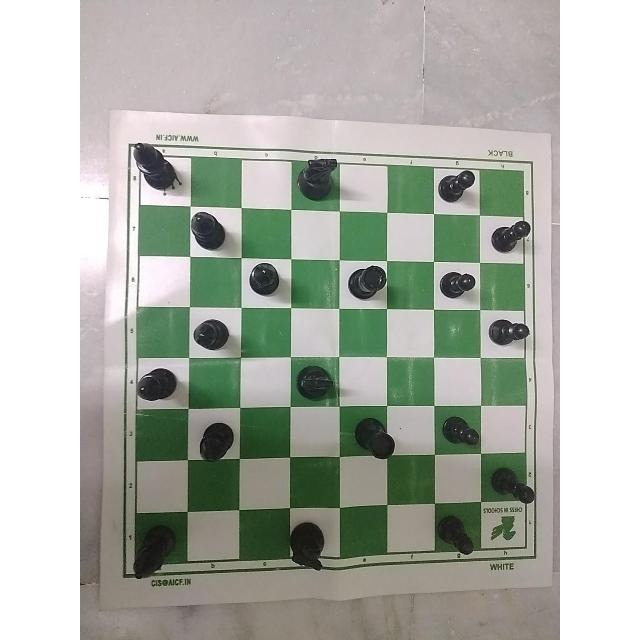black-bishop: (127, 520, 179, 587), (132, 139, 182, 197), (189, 416, 240, 466), (128, 362, 179, 409), (188, 319, 234, 367), (188, 208, 228, 255), (245, 260, 287, 303)
black-knight: (290, 350, 342, 412), (294, 148, 346, 208), (276, 518, 332, 573)
black-pawn: (490, 461, 540, 511), (440, 160, 488, 206), (441, 408, 483, 454), (486, 314, 536, 352), (490, 217, 532, 261), (435, 516, 479, 558), (436, 269, 479, 303)
black-rook: (351, 403, 399, 457), (347, 260, 395, 310)
